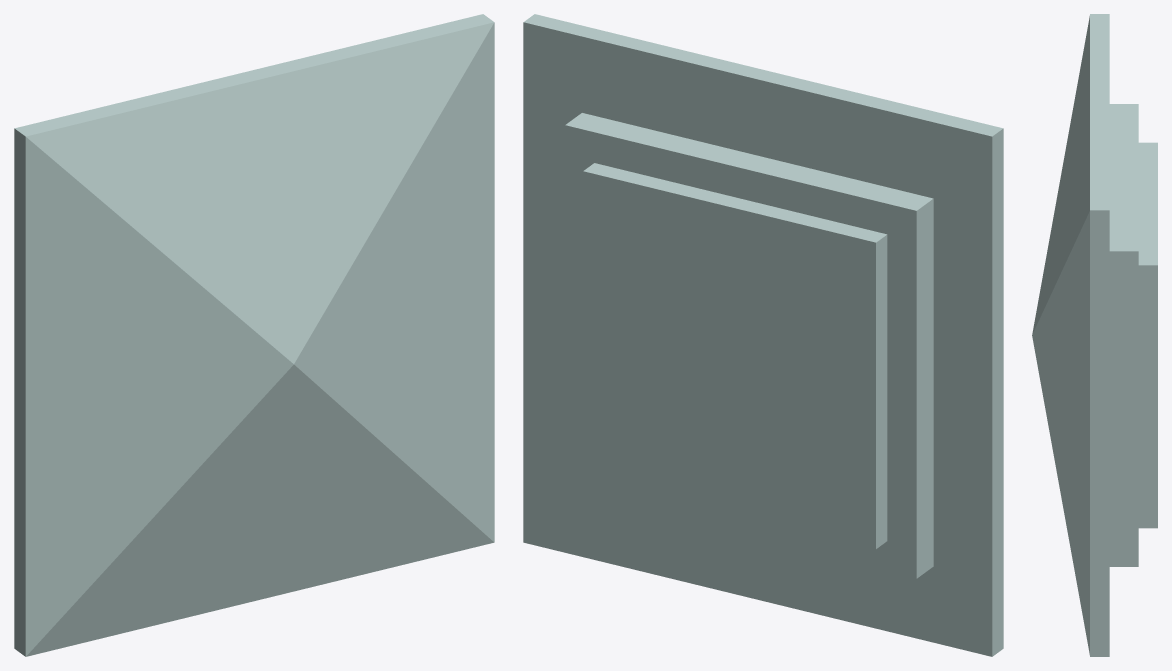
File: Cap.gltf
The picture shows the model from 3 angles, left to right: view 1: azimuth 30°, elevation 25°; view 2: azimuth 150°, elevation 25°; view 3: azimuth 270°, elevation 25°; orthographic projection. The views are drawn at different scales.
Parts seen in each view (by area): view 1: Cap; view 2: Cap; view 3: Cap.
Boxes of the visible parts, x1,y1,x2,y2 form: Cap: (14,14,494,656); Cap: (523,14,1003,656); Cap: (1032,14,1157,656).
Bounding box in the file's own units: 0.1524 × 0.1617 × 0.0413.
